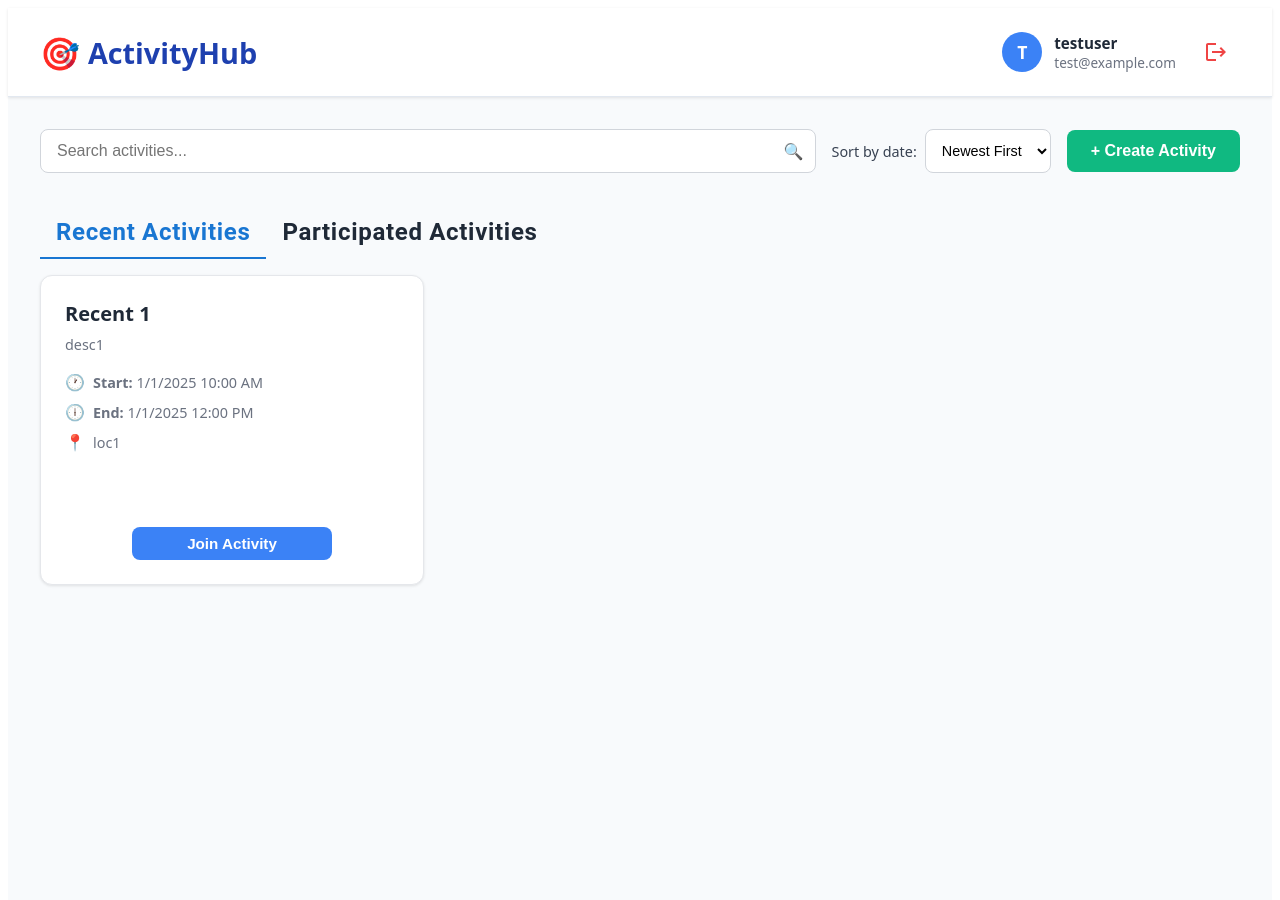
Test case: Home Page Unit Test › test recent activity and participated activity
Expected: the heading "Recent 1" is shown, [65,300,151,327]
Click the tab "Participated Activities".
click(410, 232)  # box [266,205,554,259]
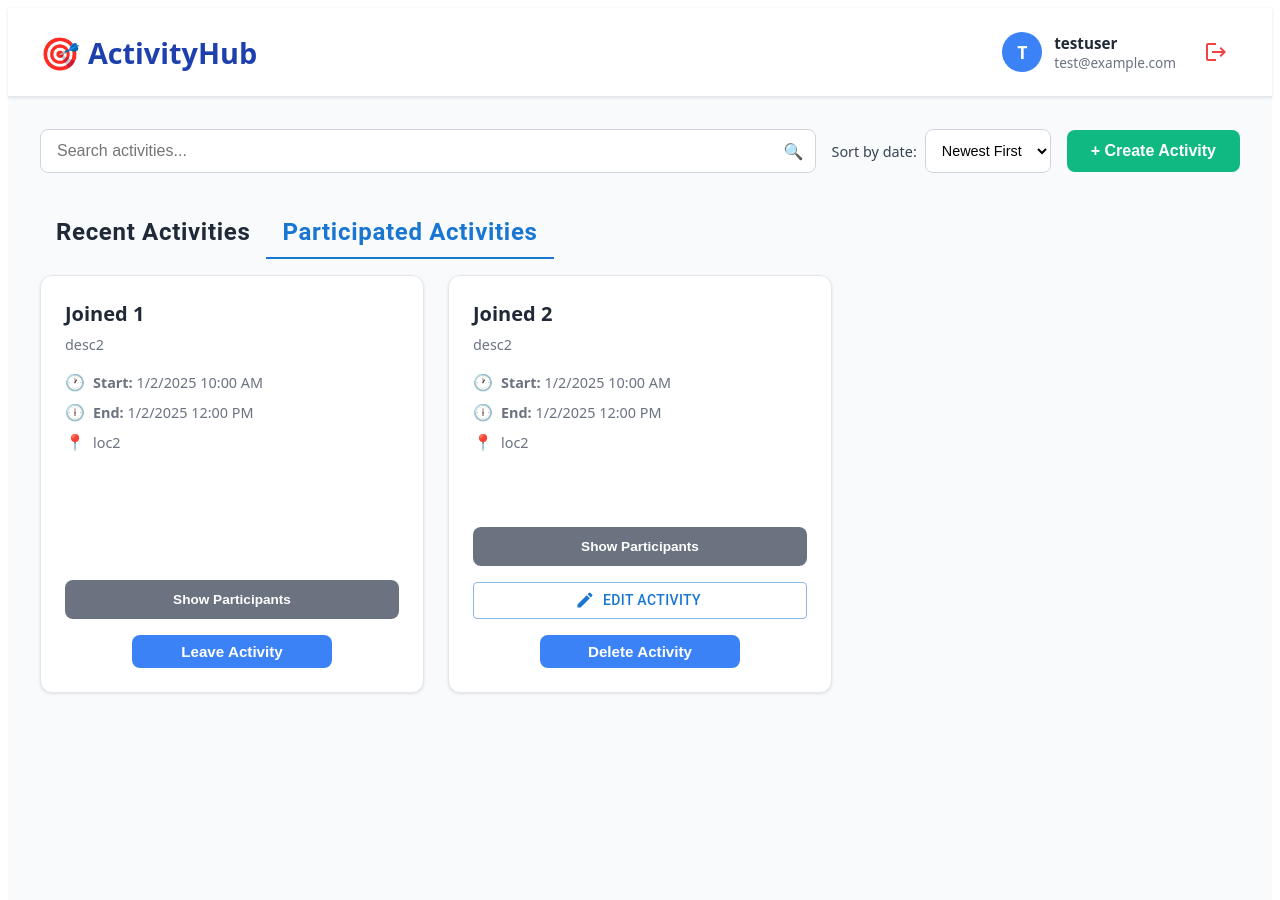
Now the heading "Joined 1" is shown, box [65,300,144,327]
